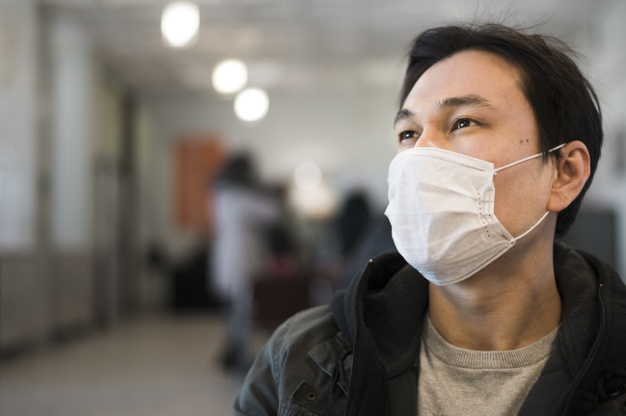surgical: (376, 142, 522, 291)
